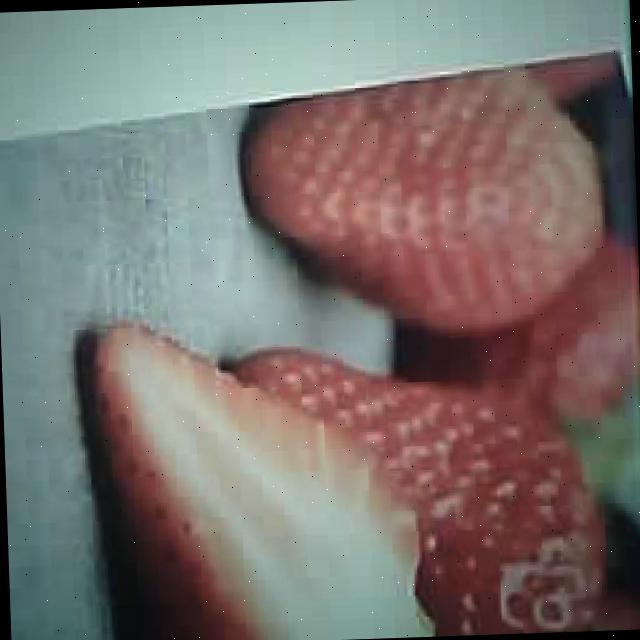strawberry: (235, 56, 604, 340)
